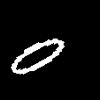chain: (11, 39, 63, 73)
